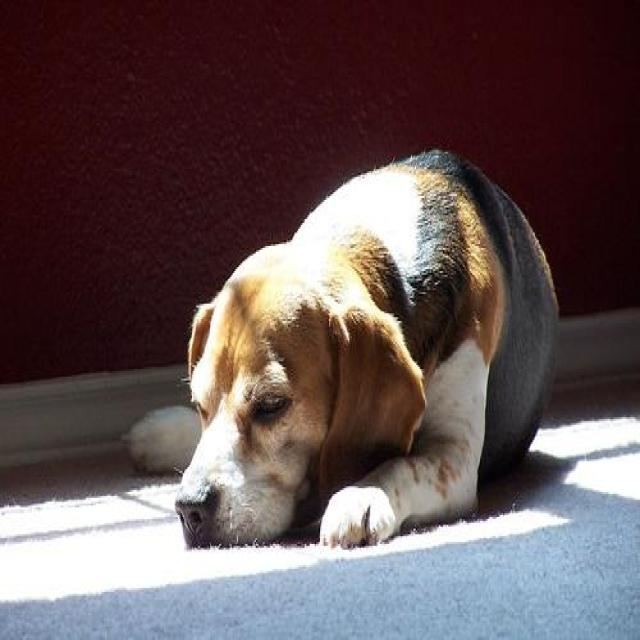beagle: (120, 144, 566, 567)
